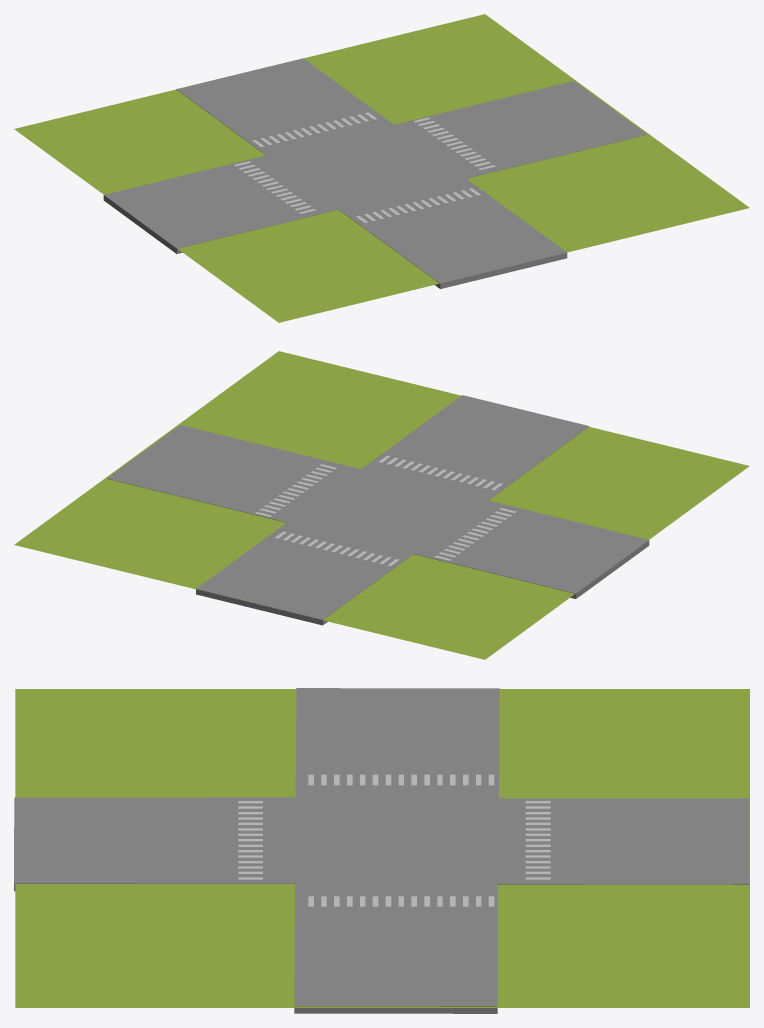
Rendered from OnlyTheFloor.fbx.
3 views of the same model, one above another, from view 1: azimuth 30°, elevation 25°; view 2: azimuth 150°, elevation 25°; view 3: azimuth 270°, elevation 25° (orthographic). The views are drawn at different scales.
Visible parts, largest first — view 1: Plane001, Line002, Object010; view 2: Plane001, Line002, Object010; view 3: Plane001, Line002, Object010.
Boxes of the visible parts, x1=… form: Plane001: x1=14, y1=14, x2=749, y2=322; Line002: x1=103, y1=58, x2=647, y2=288; Object010: x1=234, y1=112, x2=495, y2=222; Plane001: x1=14, y1=351, x2=749, y2=659; Line002: x1=107, y1=395, x2=649, y2=625; Object010: x1=255, y1=455, x2=516, y2=566; Plane001: x1=15, y1=689, x2=749, y2=1007; Line002: x1=14, y1=688, x2=749, y2=1013; Object010: x1=238, y1=774, x2=550, y2=906.
Bounding box in the file's own units: 23.92 × 0.2768 × 23.3.
